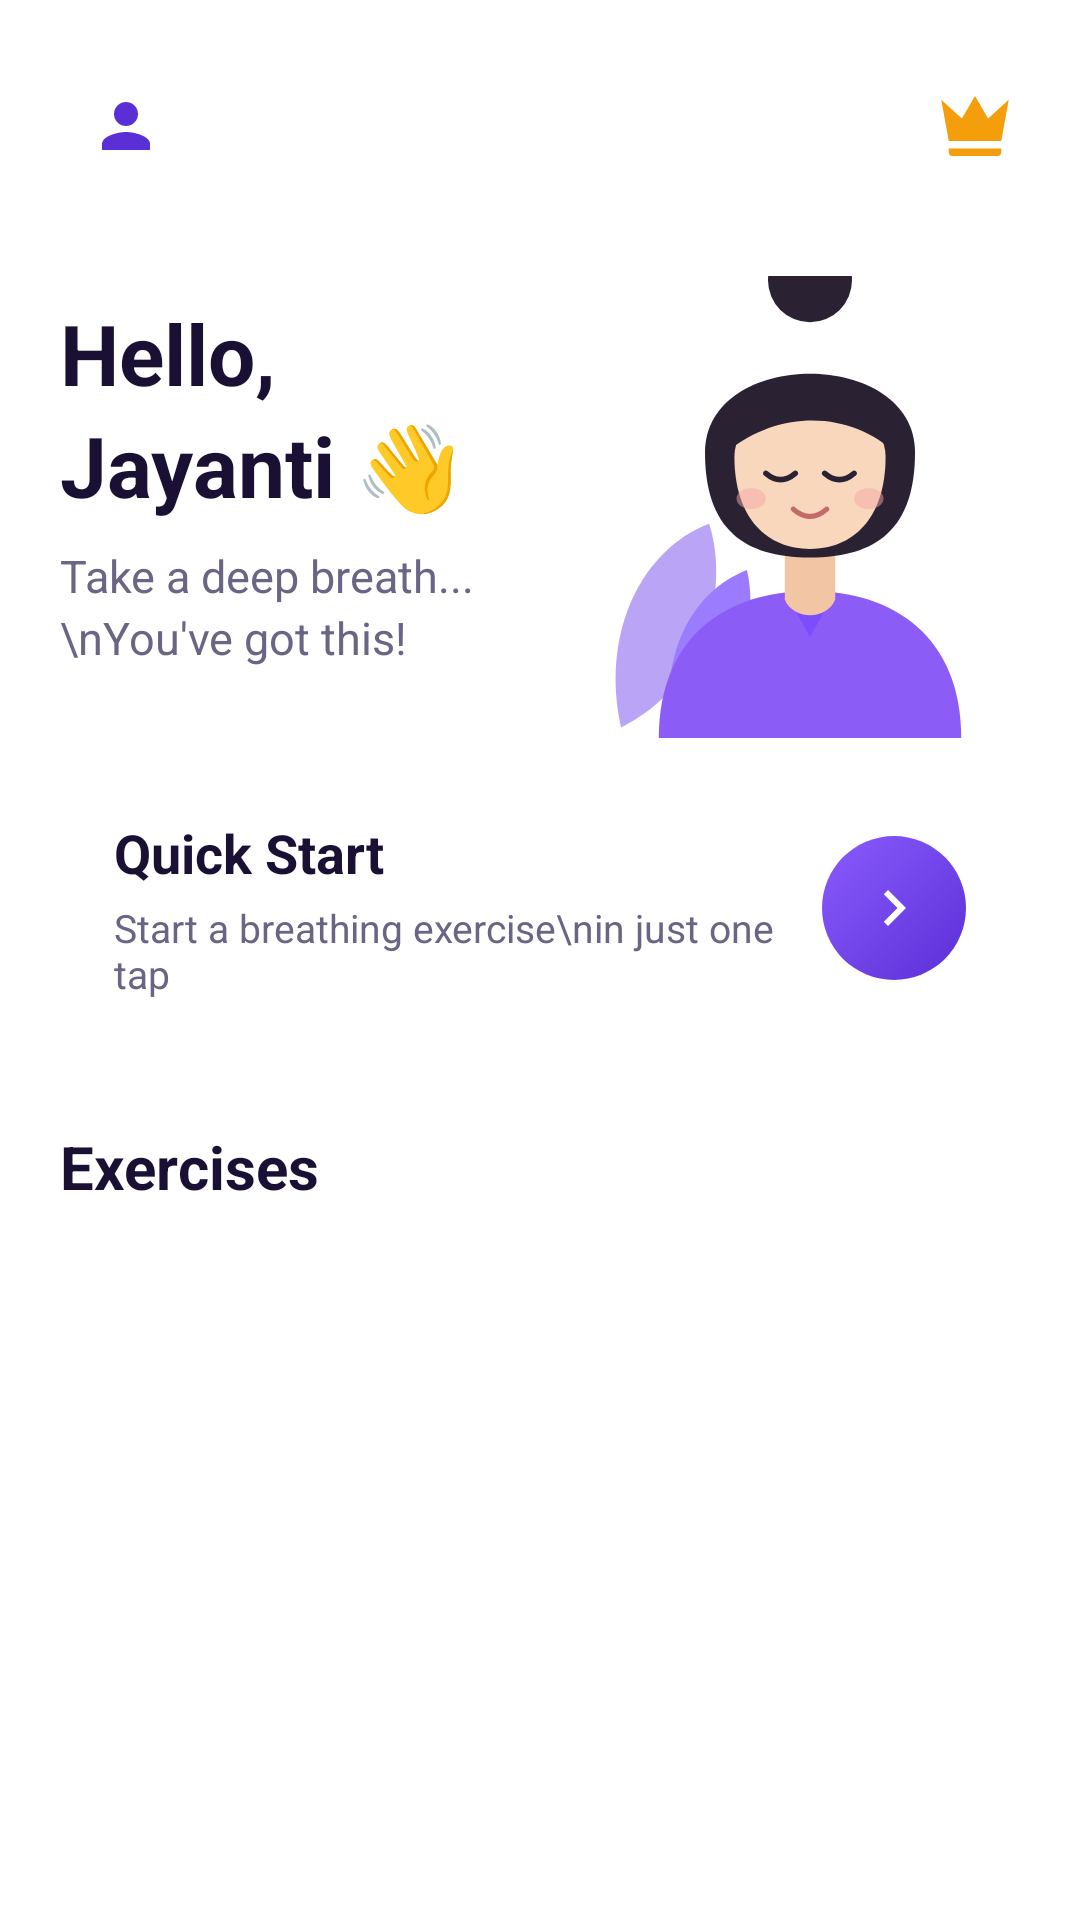

Screen size 1080 × 1920. Icon name, then its box in pixels as region(x1, y1, x2, y2):
chevron: region(822, 836, 966, 980)
crown: region(941, 96, 1009, 156)
person: region(102, 102, 150, 150)
